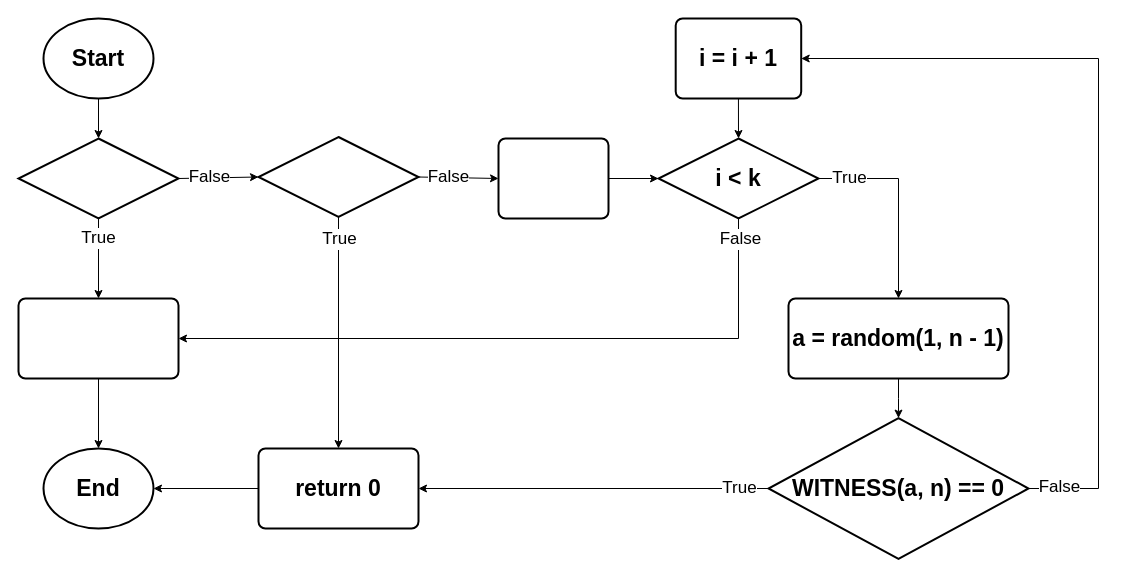
This 1124x577 diagram has some shape labels left out. The centre of each missing label's shape, as x and y in pixels:
i = 0: point (553, 178)
n <= 1: point (338, 177)
n == 2: point (98, 178)
return 1: point (98, 338)
